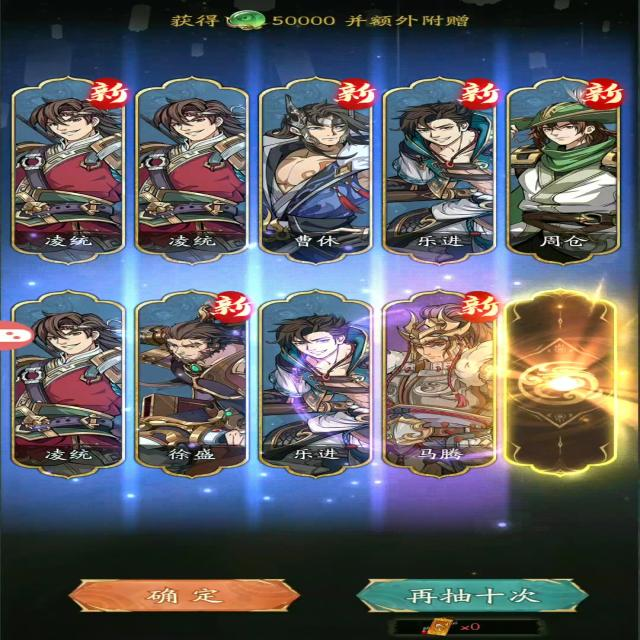operation-enter: (75, 573, 300, 614)
operation-tenRecruit: (352, 573, 600, 615)
